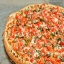pizza: (6, 2, 64, 64)
